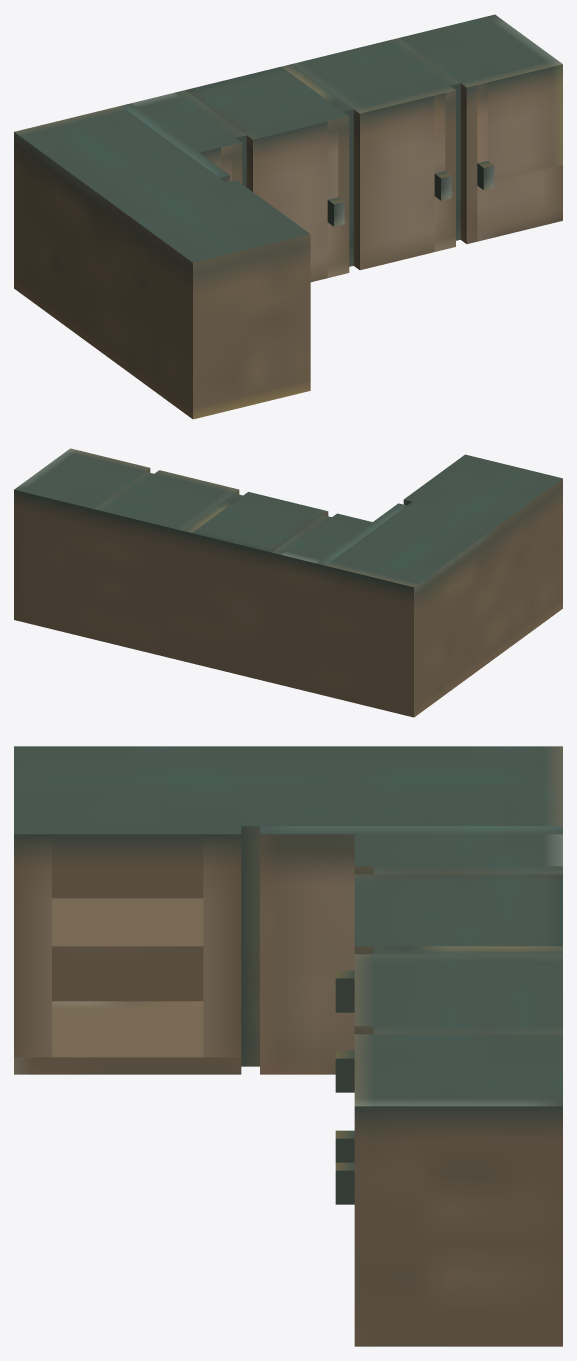
File: CabinetLShaped_00.obj
3 views of the same model, one above another, from view 1: azimuth 30°, elevation 25°; view 2: azimuth 150°, elevation 25°; view 3: azimuth 270°, elevation 25° (orthographic). The views are drawn at different scales.
Parts seen in each view (by area): view 1: CabinetLShaped_00; view 2: CabinetLShaped_00; view 3: CabinetLShaped_00.
Part boxes in pixels (bbox=[...]): CabinetLShaped_00: bbox=[14, 14, 562, 419]; CabinetLShaped_00: bbox=[14, 448, 562, 717]; CabinetLShaped_00: bbox=[14, 746, 562, 1346].
Size of the model in its own units: 2.25 by 0.7 by 1.45.
